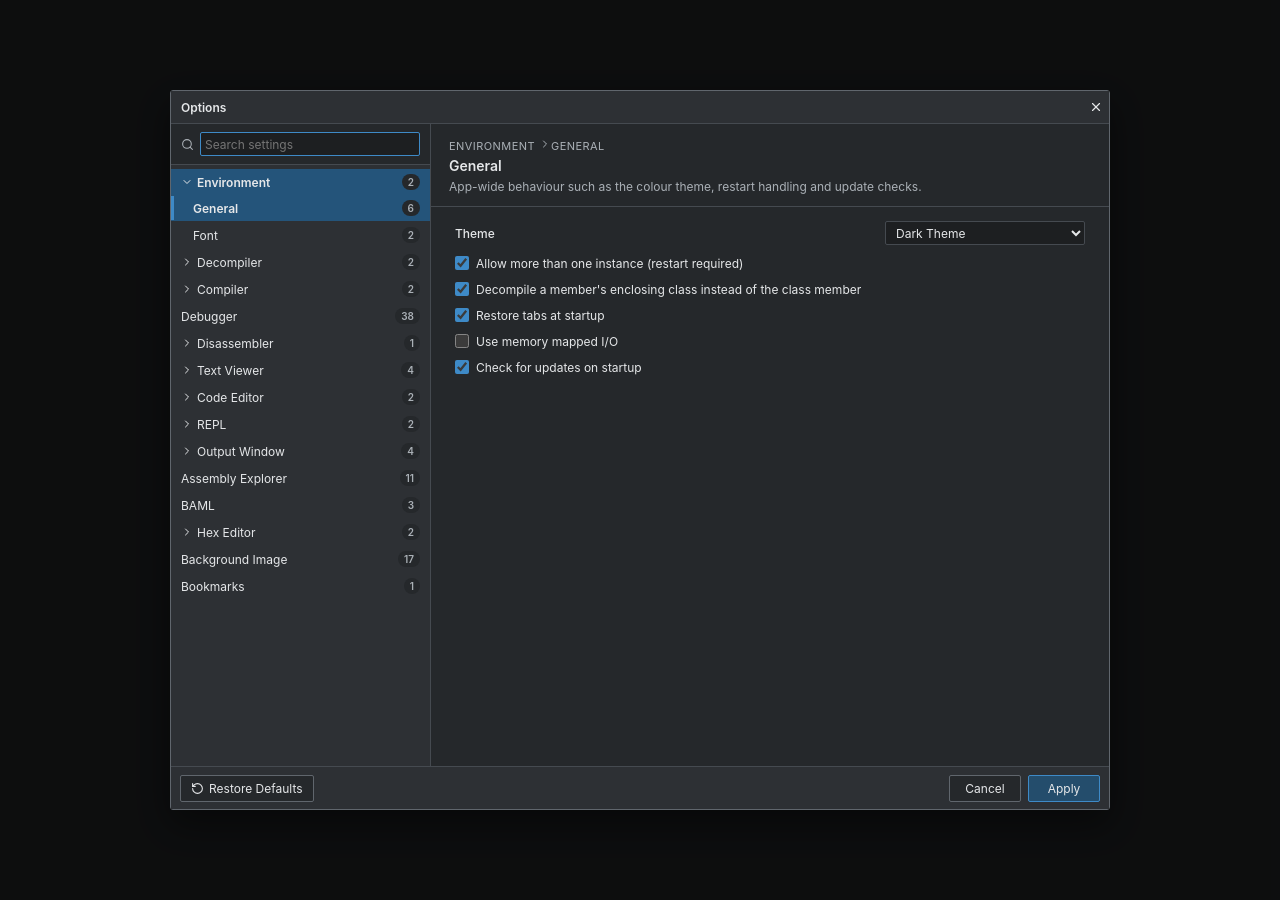
Scenario: OptionsDialog › switches the detail pane when a different tree page is selected
Expected: the heading "General" is shown, [449,157,502,174]
Click the list item "Font 2".
click(300, 235)  # box [171,222,430,248]
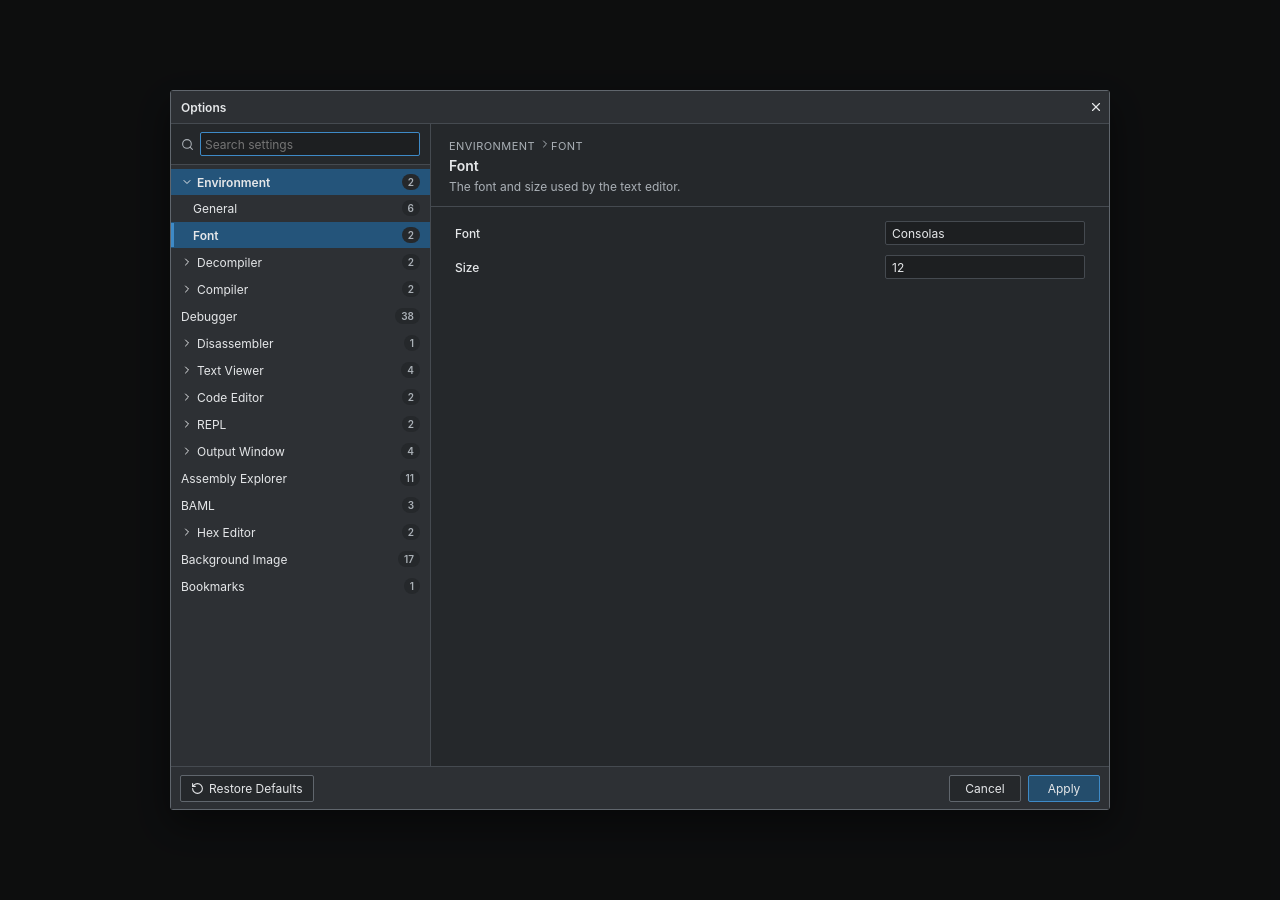
Result: the heading "Font" is shown at [449,157,479,174]
Result: the field labelled "Font" holds "Consolas" at [885,221,1085,245]
